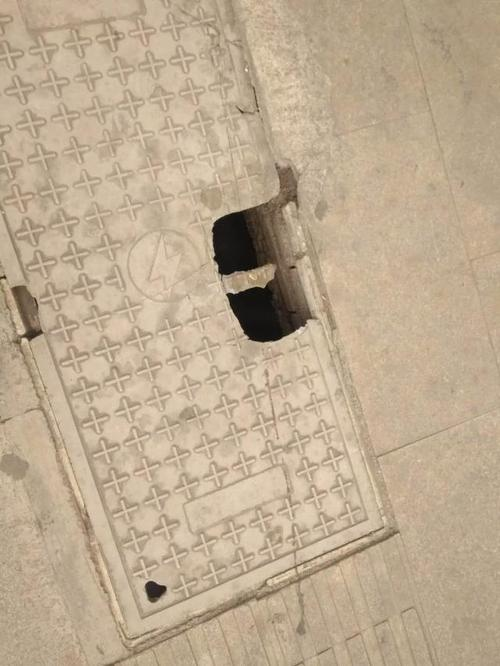broke: (11, 25, 432, 607)
